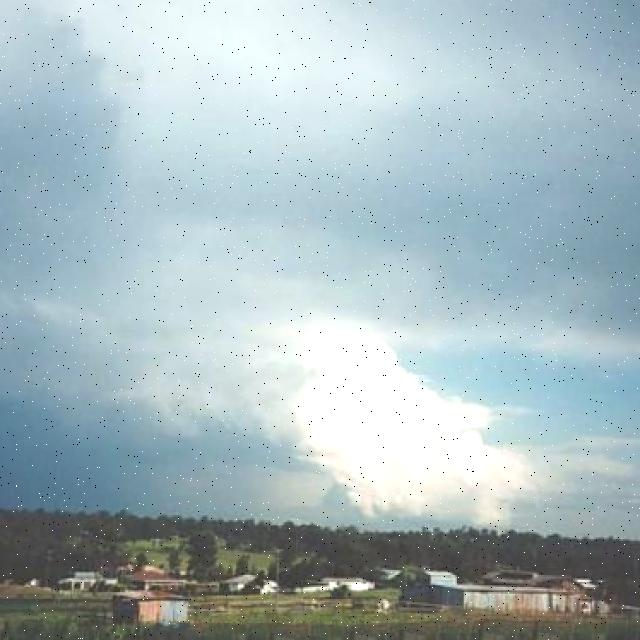As: (1, 20, 640, 494)
